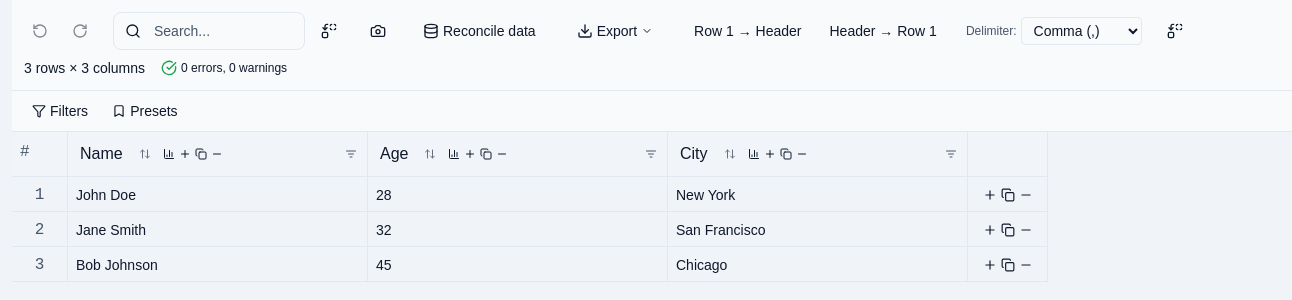
Scenario: CSV Copy Paste & Column/Row Selection UI › should label full-column selections as columns in the context menu
The width and height of the screenshot is (1292, 300).
Click the text "Age" at (394, 154), box 380,145 -> 408,162
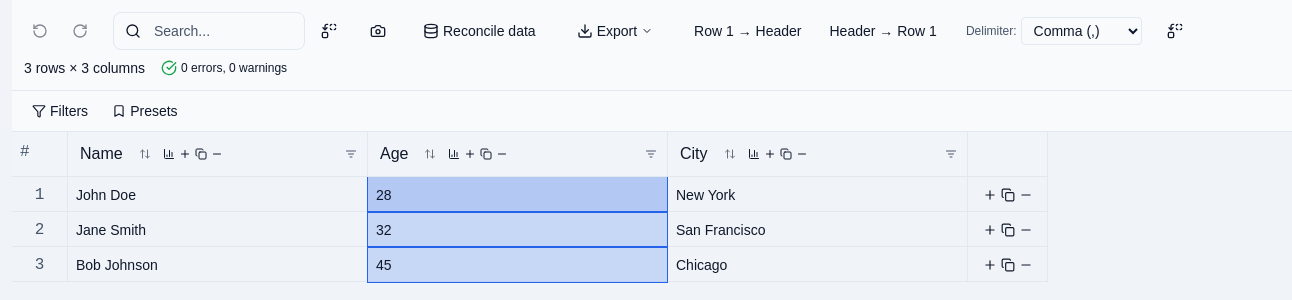
Right-click the element with test id "column-header" showing "Age" at (518, 154), box 368,132 -> 668,176
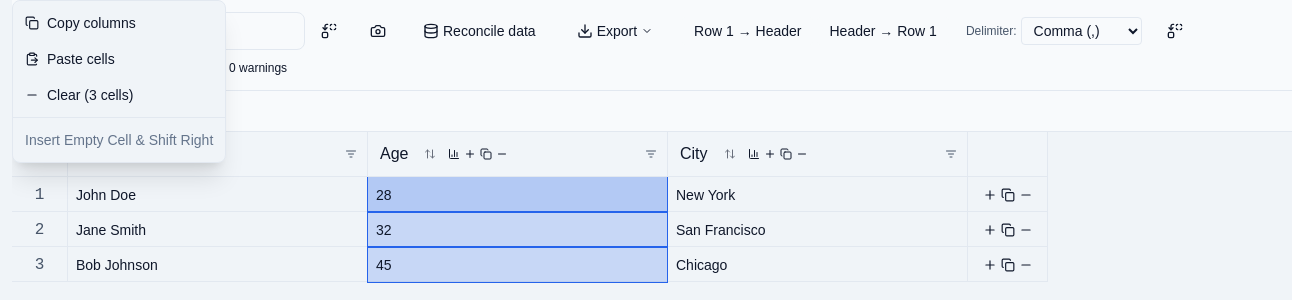
Expected: the text "Copy columns" is shown, 47,13 -> 136,33
